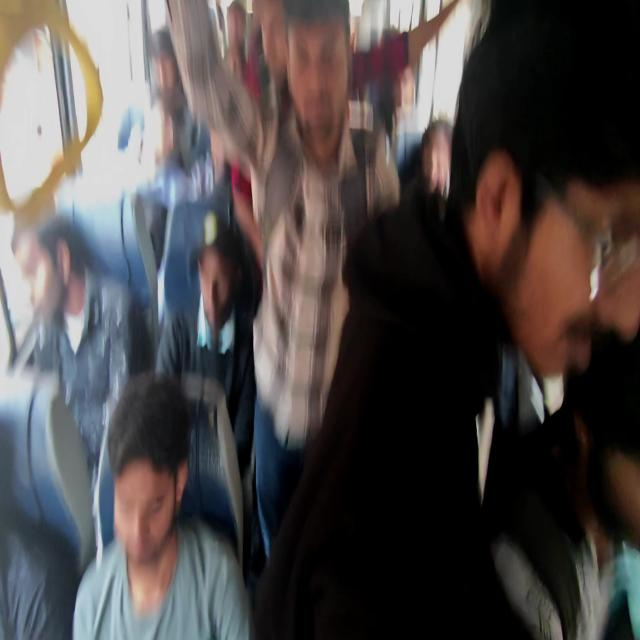person: (466, 6, 640, 405), (579, 348, 640, 547), (0, 419, 72, 586), (126, 399, 195, 542), (192, 225, 264, 348), (14, 227, 99, 327), (290, 10, 360, 114), (142, 37, 194, 124), (249, 3, 301, 81), (202, 128, 255, 197), (420, 130, 462, 208), (139, 94, 179, 172), (392, 57, 426, 142), (219, 52, 251, 101), (222, 8, 248, 44)
